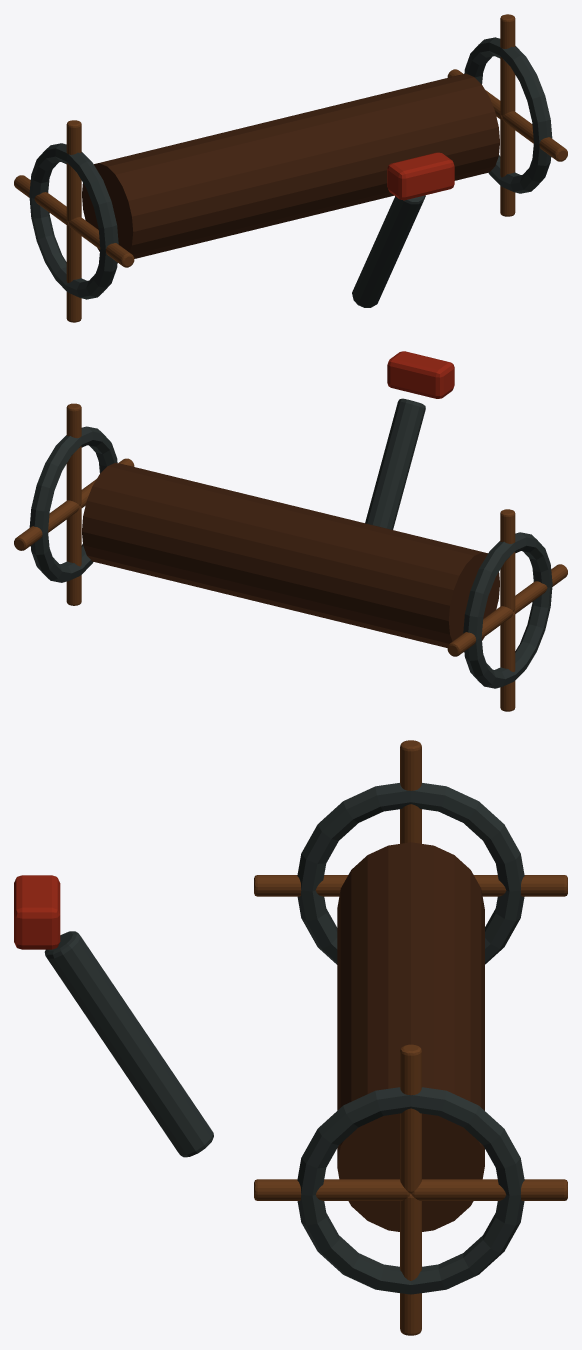
Rendered from catapult_articulated_winch_trigger.glb.
The picture shows the model from 3 angles, top to bottom: view 1: azimuth 30°, elevation 25°; view 2: azimuth 150°, elevation 25°; view 3: azimuth 270°, elevation 25°; orthographic projection. The views are drawn at different scales.
Parts seen in each view (by area): view 1: CatapultWinchDrum, CatapultWinchWheel, CatapultWinchWheel.001, CatapultTriggerLever, CatapultTriggerGrip, CatapultWinchHandle.001, CatapultWinchHandle.005, CatapultWinchHandle.003, CatapultWinchHandle.007, CatapultWinchHandle.002, CatapultWinchHandle.006, CatapultWinchHandle; view 2: CatapultWinchDrum, CatapultWinchWheel, CatapultWinchWheel.001, CatapultTriggerLever, CatapultTriggerGrip, CatapultWinchHandle.001, CatapultWinchHandle.005, CatapultWinchHandle.003, CatapultWinchHandle.007, CatapultWinchHandle, CatapultWinchHandle.004, CatapultWinchHandle.002; view 3: CatapultWinchDrum, CatapultWinchWheel.001, CatapultWinchWheel, CatapultTriggerLever, CatapultTriggerGrip, CatapultWinchHandle.004, CatapultWinchHandle.006, CatapultWinchHandle.005, CatapultWinchHandle.007, CatapultWinchHandle.001, CatapultWinchHandle, CatapultWinchHandle.002.
Boxes of the visible parts, <box> form: CatapultWinchDrum: <box>82,73,499,258</box>; CatapultWinchWheel: <box>29,143,118,299</box>; CatapultWinchWheel.001: <box>464,37,552,193</box>; CatapultTriggerLever: <box>352,195,425,307</box>; CatapultTriggerGrip: <box>387,152,454,200</box>; CatapultWinchHandle.001: <box>66,120,81,222</box>; CatapultWinchHandle.005: <box>500,14,515,116</box>; CatapultWinchHandle.003: <box>66,223,81,322</box>; CatapultWinchHandle.007: <box>500,117,515,216</box>; CatapultWinchHandle.002: <box>68,217,134,267</box>; CatapultWinchHandle.006: <box>502,111,567,161</box>; CatapultWinchHandle: <box>14,175,68,224</box>; CatapultWinchDrum: <box>82,462,499,647</box>; CatapultWinchWheel: <box>463,532,552,688</box>; CatapultWinchWheel.001: <box>29,426,117,582</box>; CatapultTriggerLever: <box>365,398,425,529</box>; CatapultTriggerGrip: <box>387,351,454,398</box>; CatapultWinchHandle.001: <box>500,509,515,611</box>; CatapultWinchHandle.005: <box>66,403,81,505</box>; CatapultWinchHandle.003: <box>500,612,515,711</box>; CatapultWinchHandle.007: <box>66,506,81,605</box>; CatapultWinchHandle: <box>447,606,513,656</box>; CatapultWinchHandle.004: <box>14,500,79,550</box>; CatapultWinchHandle.002: <box>513,564,567,613</box>; CatapultWinchDrum: <box>337,842,484,1231</box>; CatapultWinchWheel.001: <box>297,1087,524,1294</box>; CatapultWinchWheel: <box>297,783,524,964</box>; CatapultTriggerLever: <box>44,931,213,1157</box>; CatapultTriggerGrip: <box>14,875,60,949</box>; CatapultWinchHandle.004: <box>411,1179,567,1200</box>; CatapultWinchHandle.006: <box>254,1179,410,1200</box>; CatapultWinchHandle.005: <box>400,1044,421,1193</box>; CatapultWinchHandle.007: <box>400,1194,421,1335</box>; CatapultWinchHandle.001: <box>400,740,421,843</box>; CatapultWinchHandle: <box>474,875,567,896</box>; CatapultWinchHandle.002: <box>254,875,347,896</box>.
Bounding box in the file's own units: 1.62 × 0.69 × 1.2.
